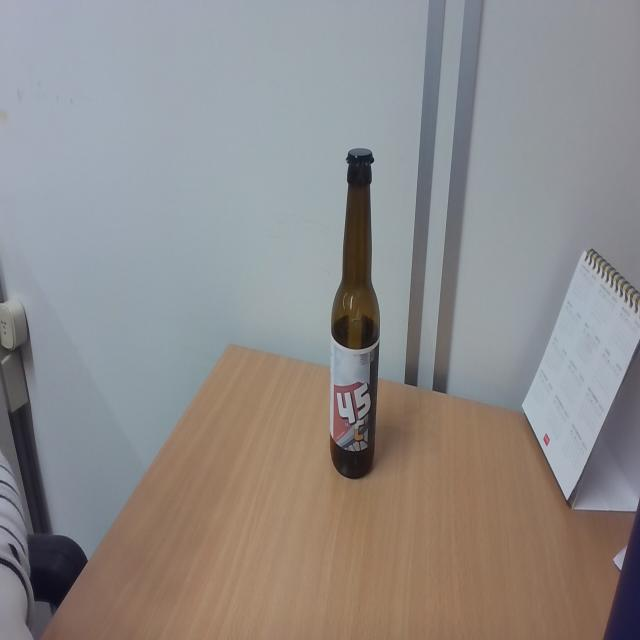Bottle: (330, 148, 380, 478)
Cap: (342, 146, 377, 168)
Label: (330, 339, 379, 451)
